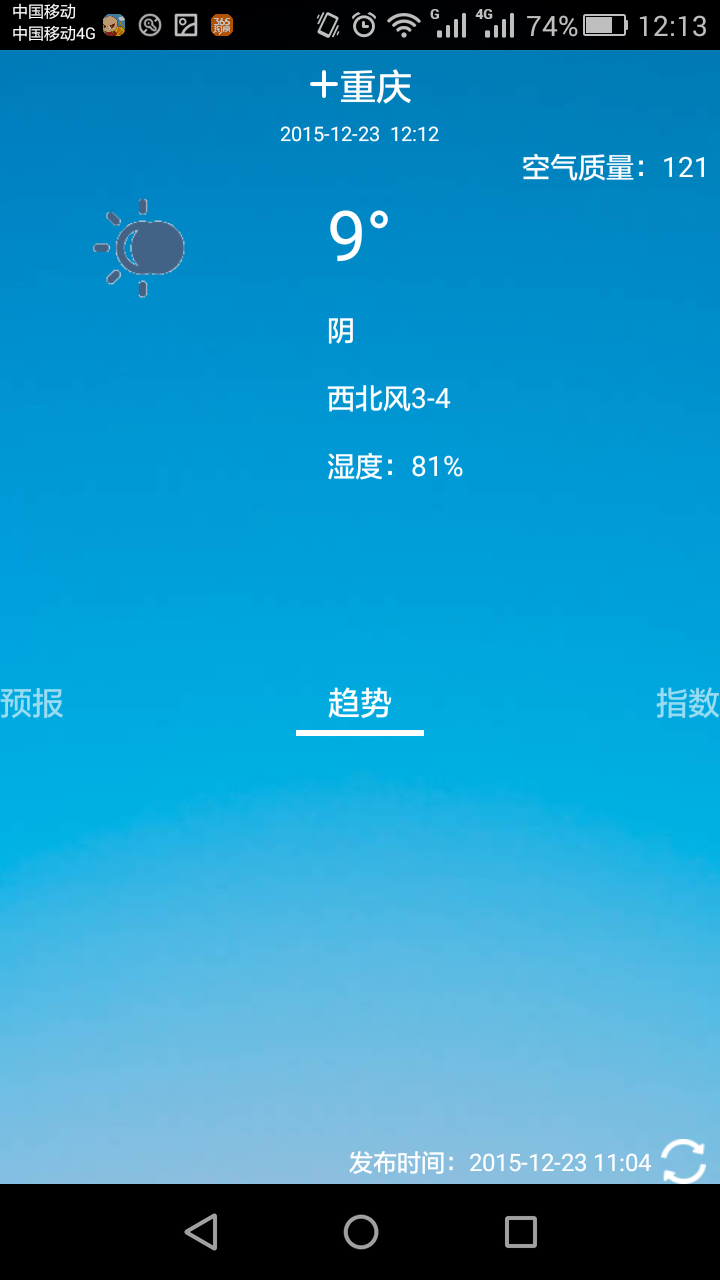textview: (290, 194, 511, 521)
